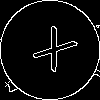X: (25, 25, 79, 82)
